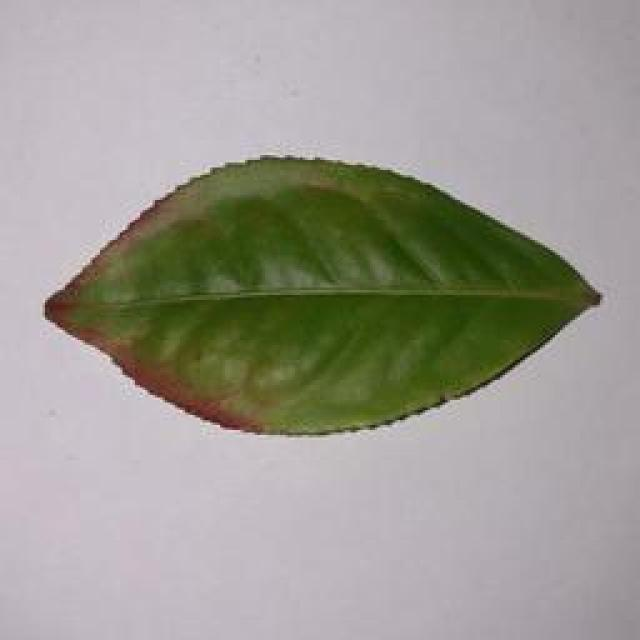Red Leaf Spot: (38, 157, 603, 451)
